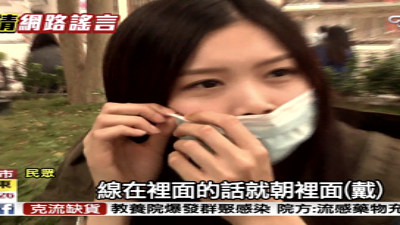mask_weared_incorrect: (169, 47, 322, 169)
